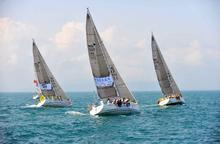fanchuan: (83, 4, 141, 117), (24, 38, 71, 111), (148, 31, 186, 107)
